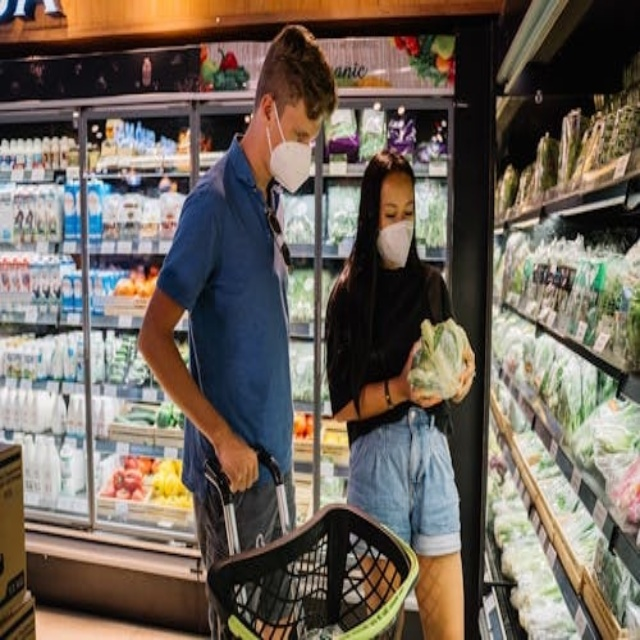Mascara: (266, 105, 314, 193), (375, 217, 415, 269)
Sin_gafas: (284, 111, 323, 150), (384, 188, 415, 217)
Sin_guantes: (212, 433, 259, 494), (449, 344, 476, 404)
